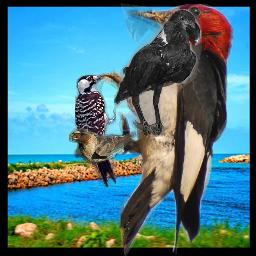Crow: (114, 9, 202, 137)
Swallow: (69, 128, 137, 164)
Woodpecker: (101, 3, 234, 256), (75, 73, 116, 188)
